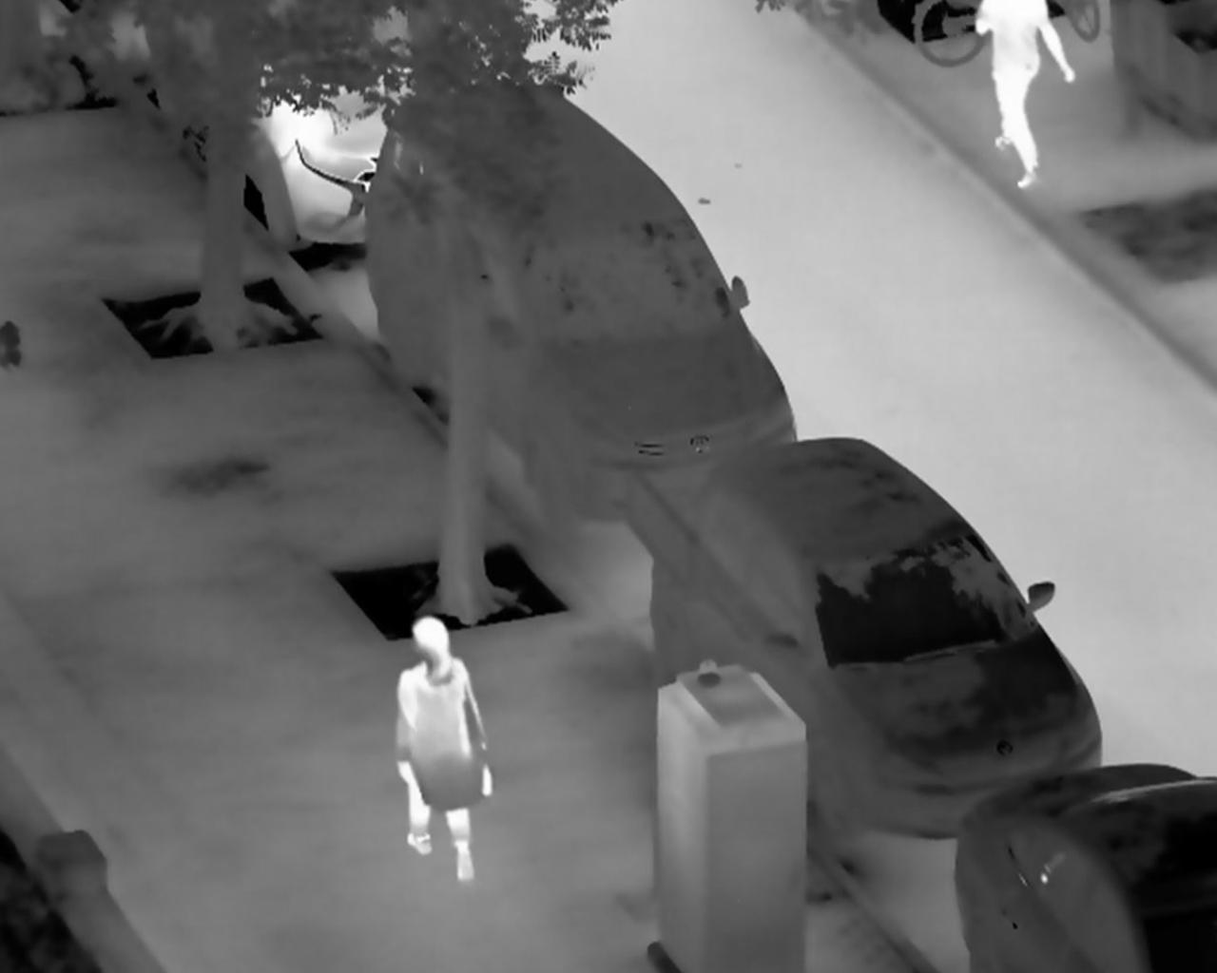person: (392, 617, 494, 883)
